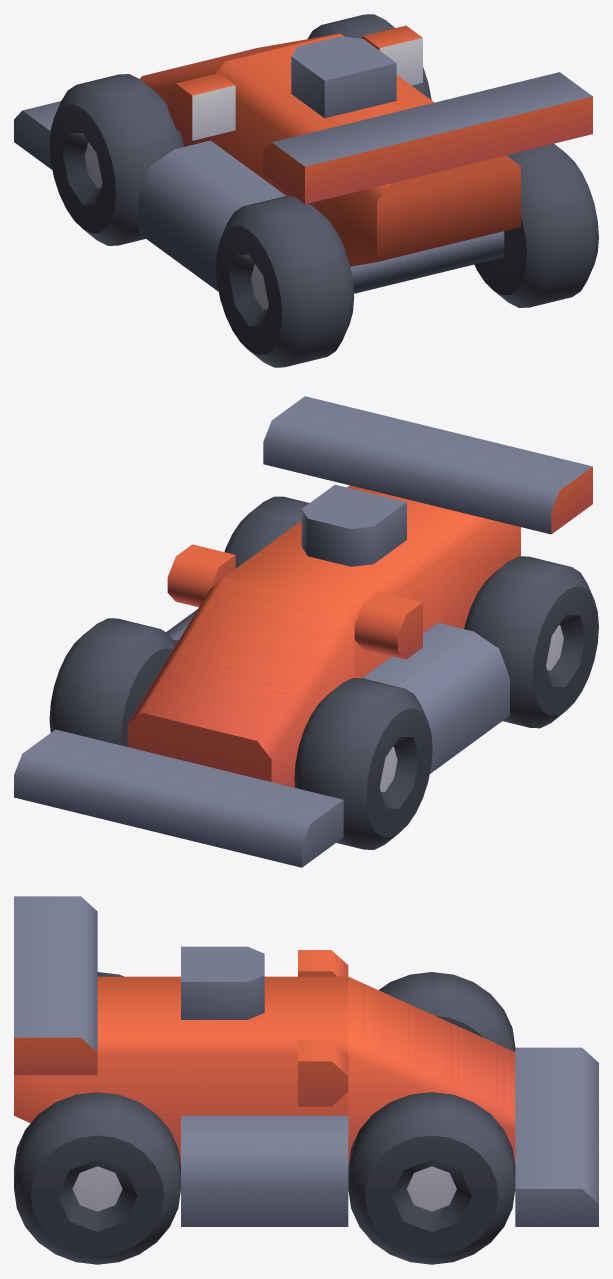
Rendered from vehicle-speedster.glb.
The picture shows the model from 3 angles, top to bottom: view 1: azimuth 30°, elevation 25°; view 2: azimuth 150°, elevation 25°; view 3: azimuth 270°, elevation 25°; orthographic projection.
Visible parts, largest first — view 1: vehicle-speedster, wheel-bl, wheel-fl, wheel-br, wheel-fr; view 2: vehicle-speedster, wheel-fl, wheel-bl, wheel-fr, wheel-br; view 3: vehicle-speedster, wheel-fr, wheel-br, wheel-fl.
Boxes of the visible parts, x1,y1,x2,y2 form: vehicle-speedster: (14,25,592,293); wheel-bl: (216,196,354,367); wheel-fl: (49,74,184,245); wheel-br: (474,143,598,307); wheel-fr: (307,14,431,99); vehicle-speedster: (14,396,592,867); wheel-fl: (294,678,432,849); wheel-bl: (464,556,598,728); wheel-fr: (49,618,175,746); wheel-br: (224,496,309,568); vehicle-speedster: (14,896,598,1226); wheel-fr: (348,1092,515,1264); wheel-br: (14,1092,180,1264); wheel-fl: (379,972,515,1051).
Size of the model in its own units: 0.55 by 0.375 by 0.875.
1 material, 1 textured.
